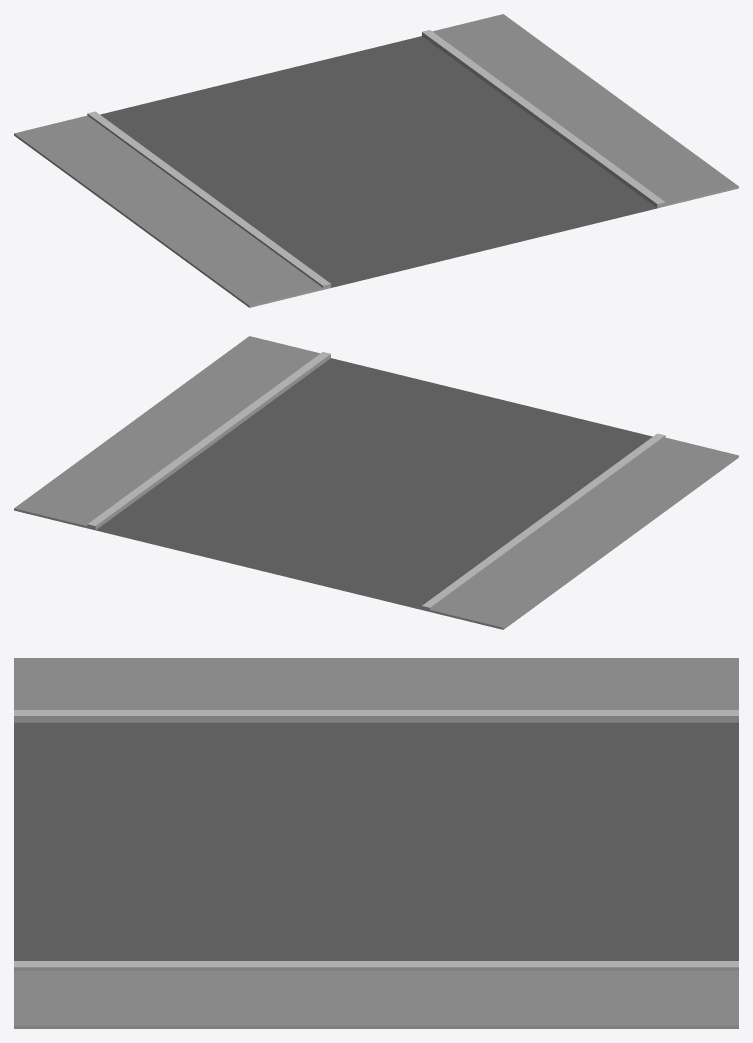
Rendered from street_4x20.fbx.
3 views of the same model, one above another, from view 1: azimuth 30°, elevation 25°; view 2: azimuth 150°, elevation 25°; view 3: azimuth 270°, elevation 25° (orthographic). The views are drawn at different scales.
Visible parts, largest first — view 1: street_4x20; view 2: street_4x20; view 3: street_4x20.
Part boxes in pixels (bbox=[...]): street_4x20: bbox=[14, 14, 738, 307]; street_4x20: bbox=[14, 336, 738, 629]; street_4x20: bbox=[14, 658, 738, 1028].
Bounding box in the file's own units: 24 × 0.2 × 20.
